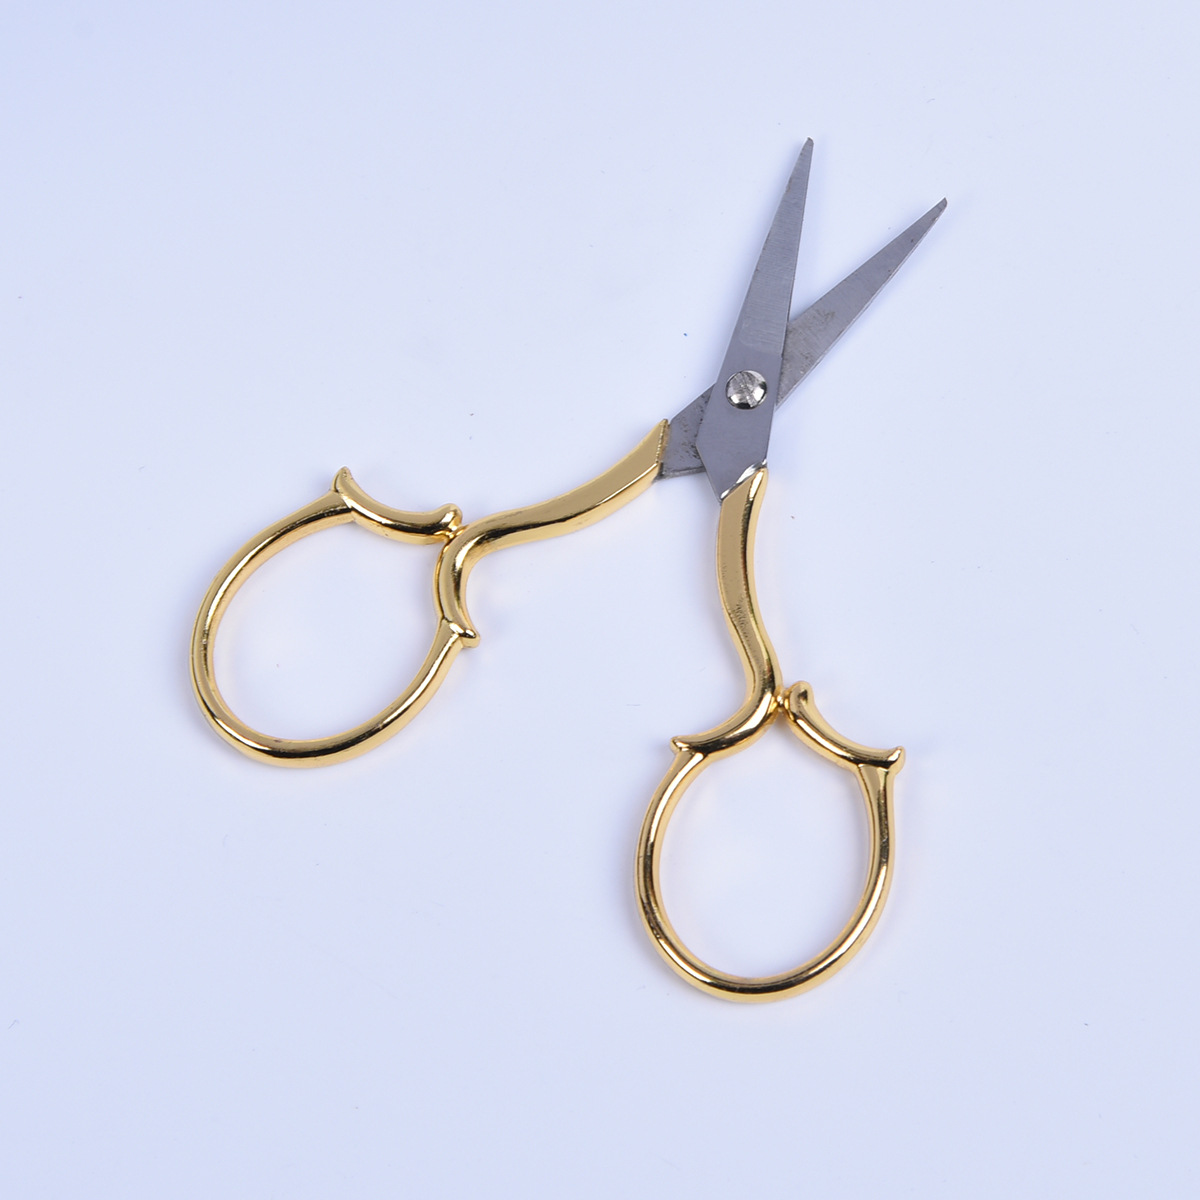scissors: (122, 127, 958, 1010)
